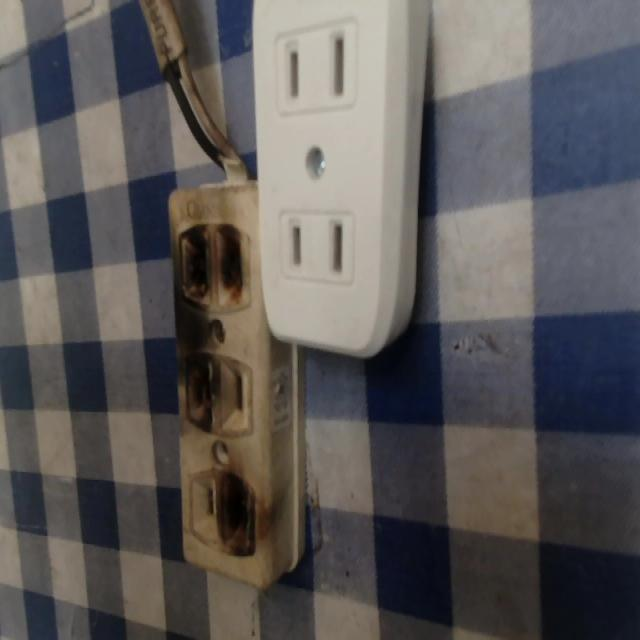-: (176, 220, 259, 316), (174, 340, 223, 443), (214, 472, 263, 571)
